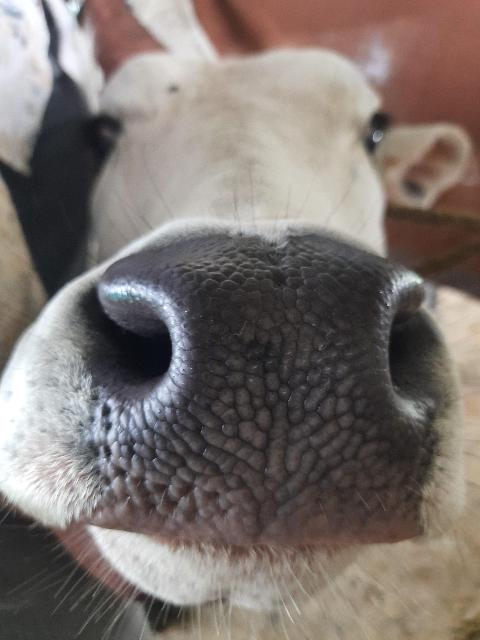Muzzle: (150, 256, 400, 546)
